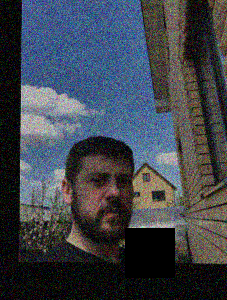without_mask: (81, 165, 134, 243)
